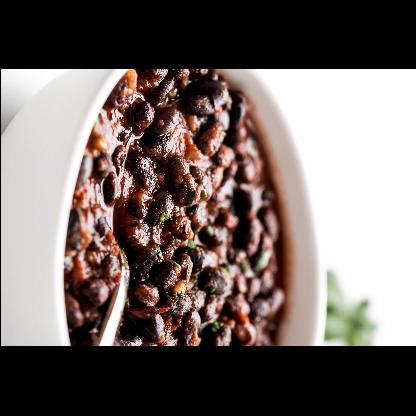black beans: (63, 70, 289, 348)
